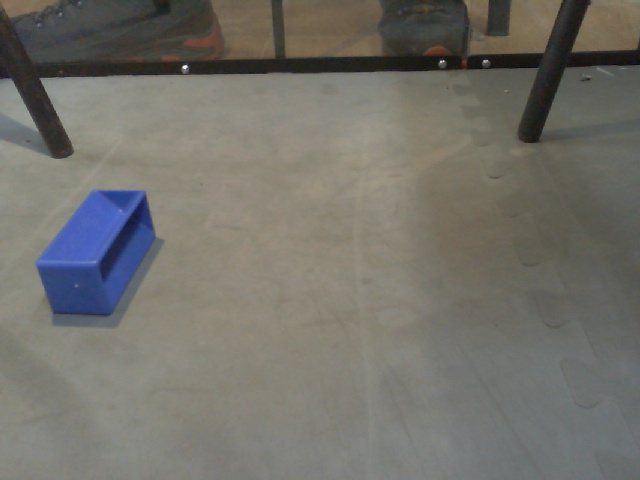BlueSample: (33, 187, 160, 325)
